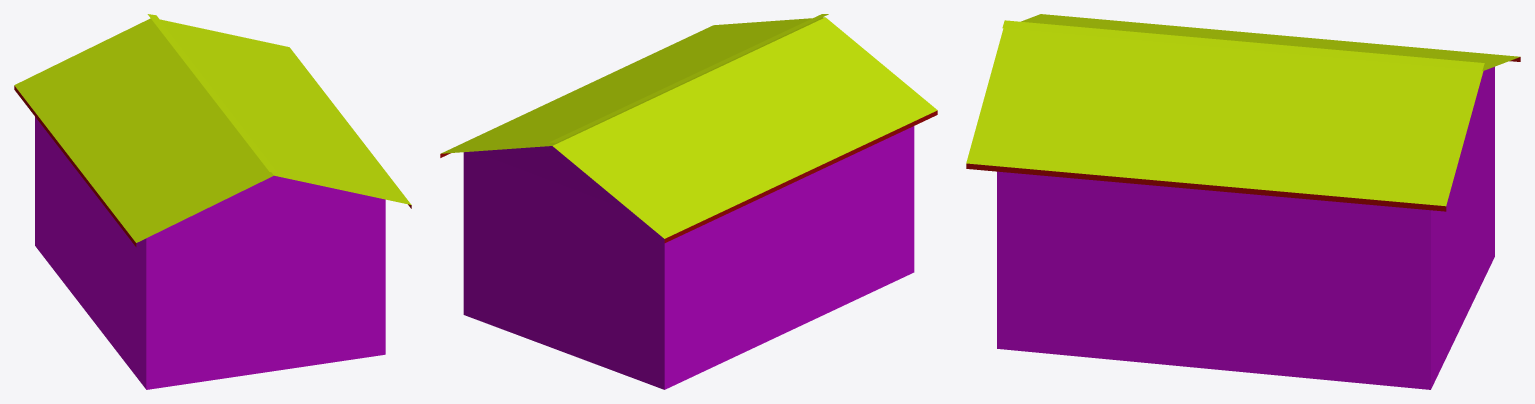
The picture shows the model from 3 angles, left to right: view 1: azimuth 30°, elevation 25°; view 2: azimuth 150°, elevation 25°; view 3: azimuth 270°, elevation 25°; orthographic projection. The views are drawn at different scales.
Parts seen in each view (by area): view 1: sc_140; view 2: sc_140; view 3: sc_140.
Part boxes in pixels (<box>): sc_140: <box>14,14,411,389</box>; sc_140: <box>440,14,937,389</box>; sc_140: <box>966,14,1520,389</box>.
Bounding box in the file's own units: 9.18 × 5.78 × 11.19.
